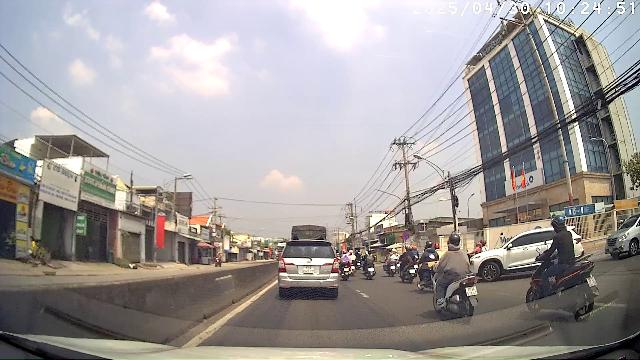130-cam-dung-va-do-xe: (402, 232, 410, 240)
